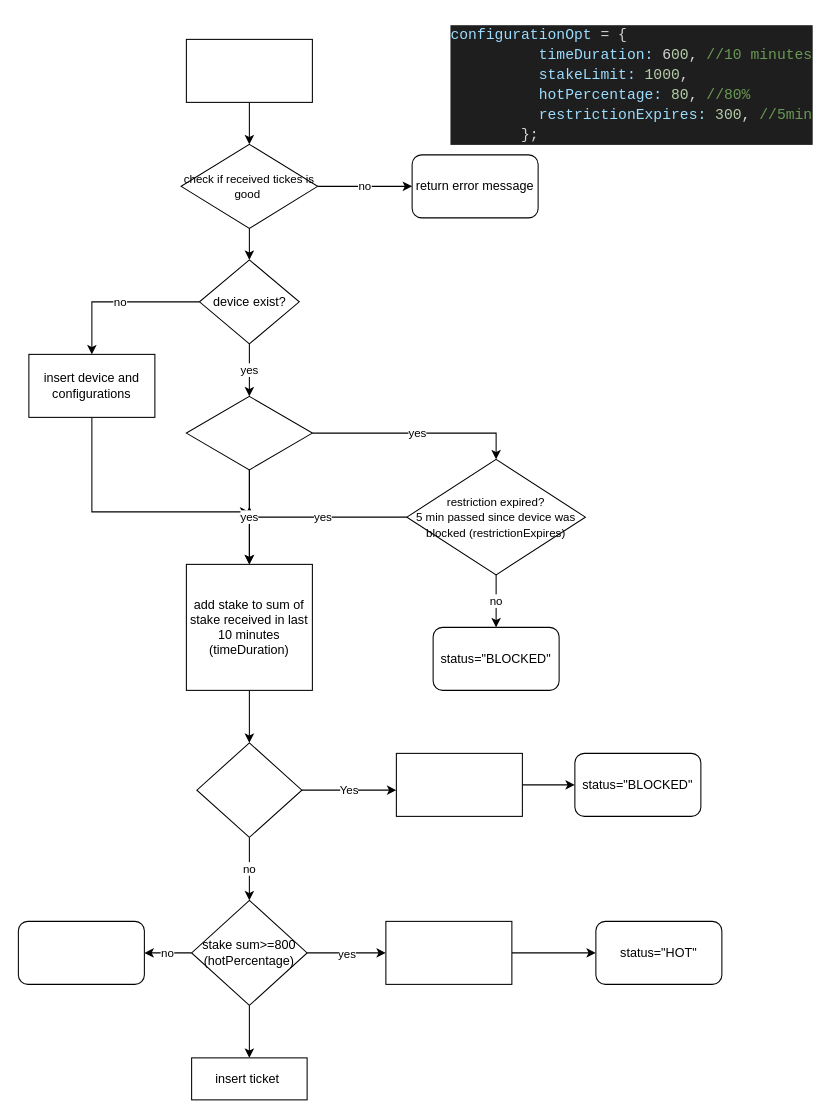
Some shapes in this 832 by 1118 pixel diagram are drawn without their labels. The shapes that lost their labels are listed below. From the top down, each one's centre as x and y in pixels, then its label:
(248,70): Ticket message received
(248,432): device status BLOCKED?
(249,789): Stake sum>=1000 (stakeLimit)
(458,784): update device restrictionTime and status
(80,952): status="OK"
(448,952): update device status
